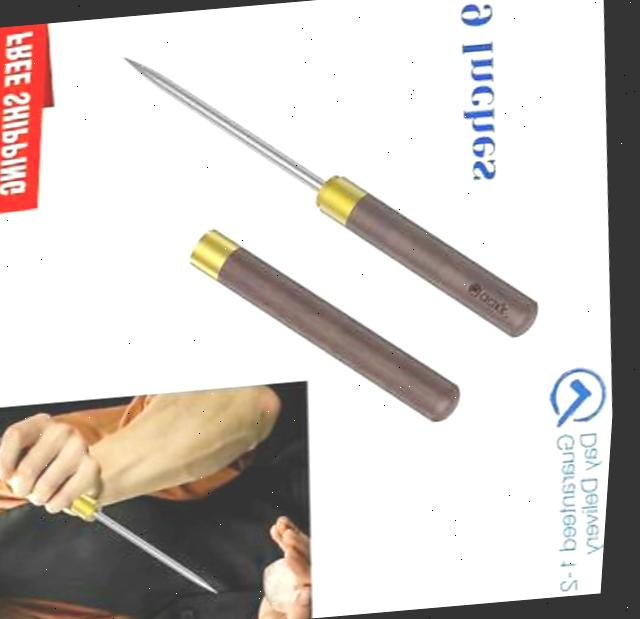ice pick: (108, 22, 560, 368), (179, 204, 480, 440), (0, 408, 235, 610)
